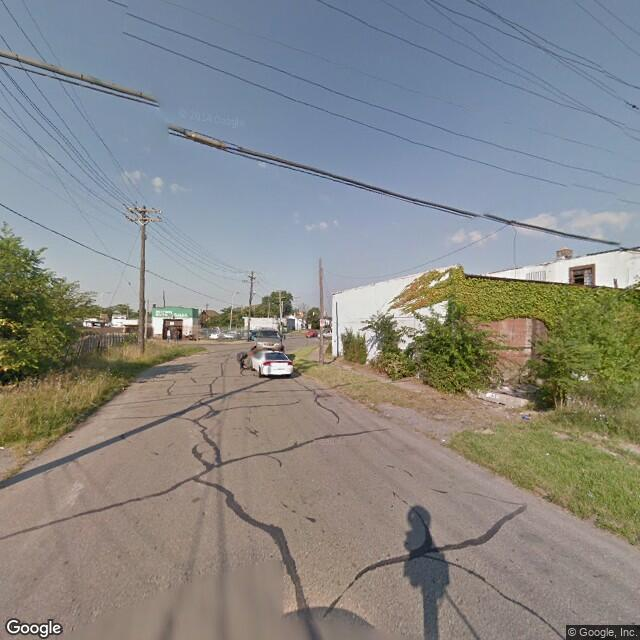litter: (522, 413, 534, 426), (547, 451, 552, 459), (2, 444, 5, 455), (30, 448, 31, 453)
